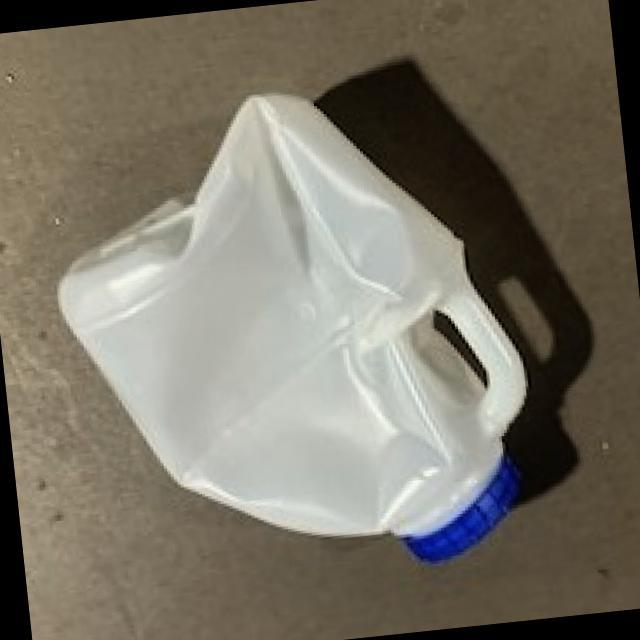HDPE Plastic: (52, 88, 536, 572)
